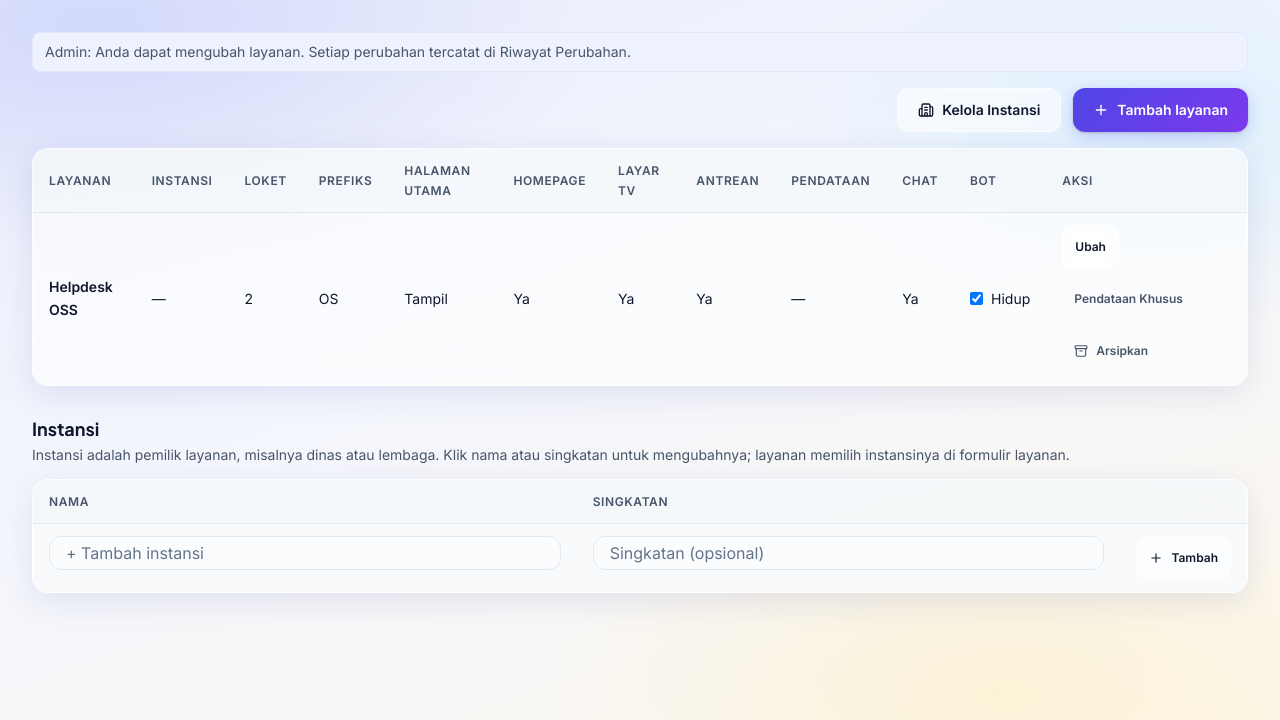
Test case: kelola layanan › Admin › galat 409 bentrok prefiks dari server tampil jelas di bawah isian prefiks (bukan di atas form)
Step 1. Click the button with aria-label "Ubah Helpdesk OSS" → (1091, 247), box [1062,225,1119,269]
(page scrolled)
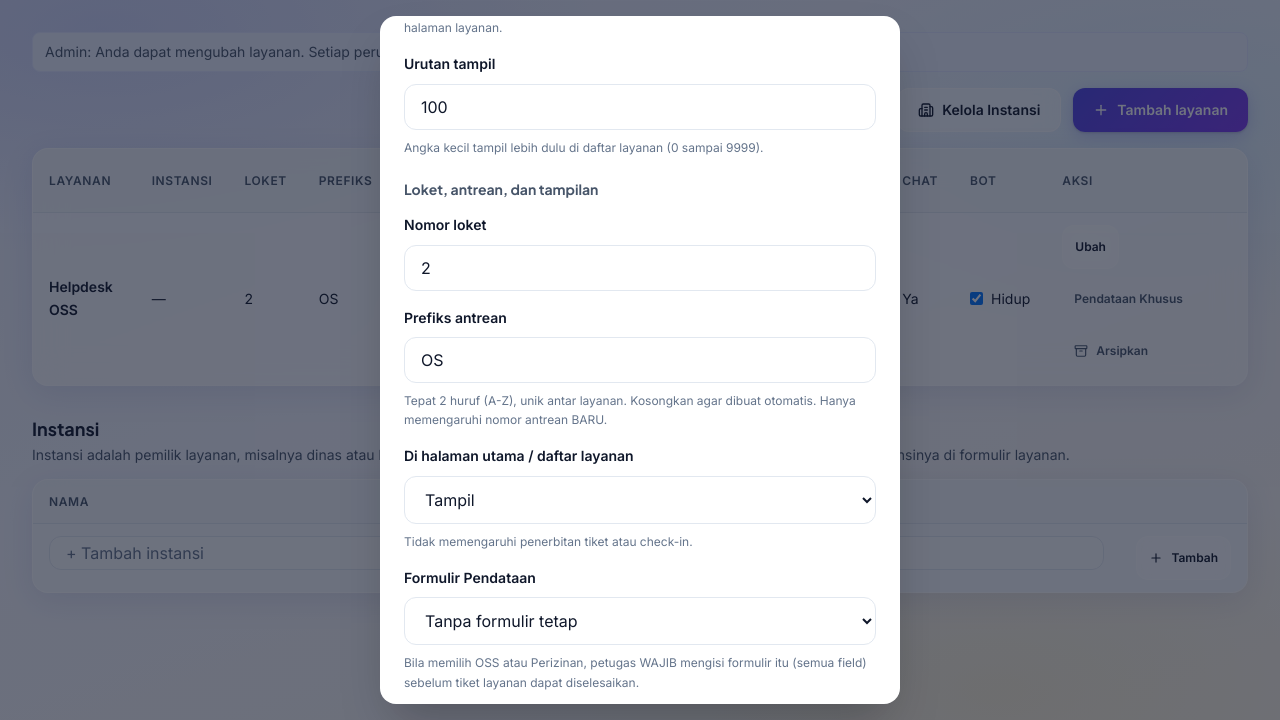
Step 2. Replace the text in the field labelled "Prefiks antrean" with "bm" → (640, 360), box [404,337,876,383]
(page scrolled)
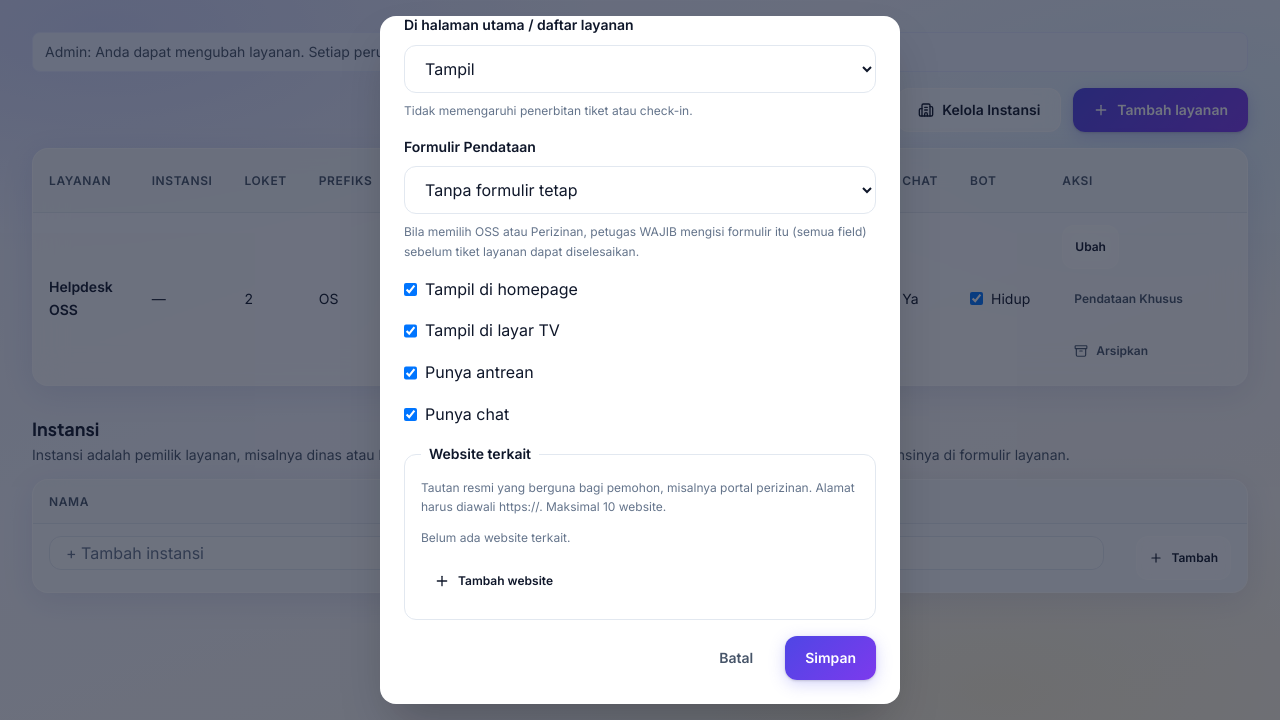
Step 3. Click the button "Simpan" → (831, 658), box [785,636,876,680]
(page scrolled)
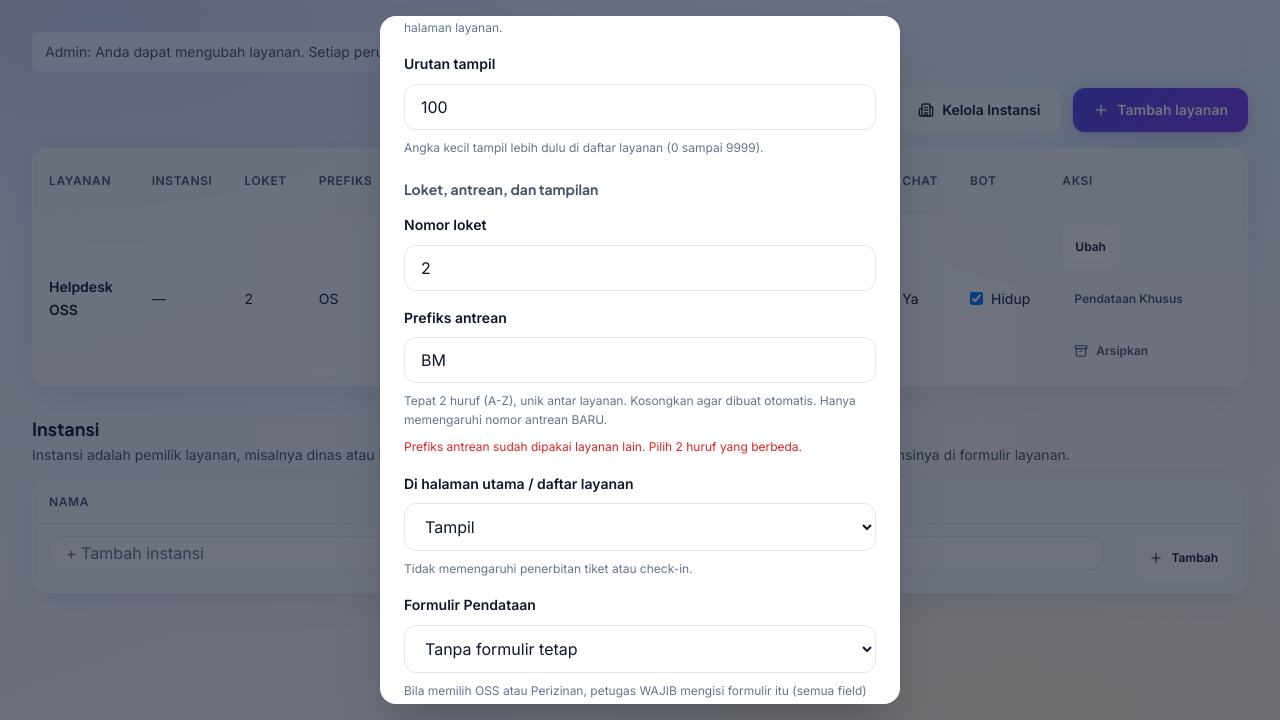
Expected: the number of messages is 1, [404,439,802,454]
Expected: the message shows "Prefiks antrean sudah dipakai layanan lain", [404,439,802,454]
